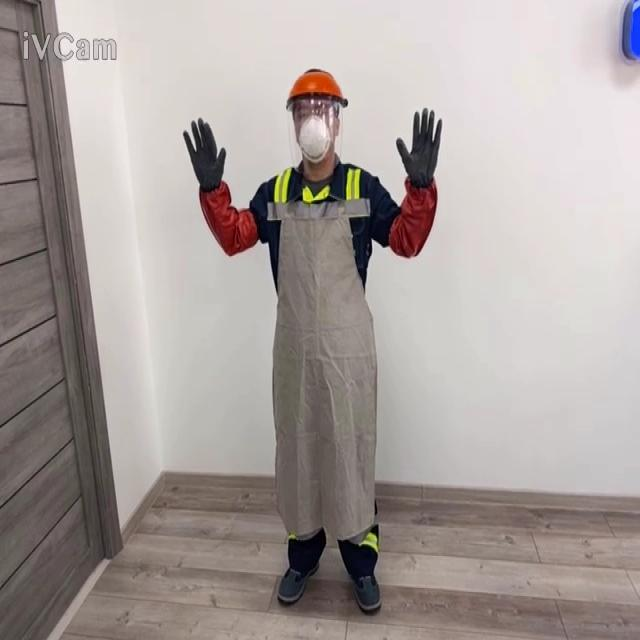Gloves: (182, 116, 226, 192)
Mask: (296, 112, 331, 164)
Protective apron: (266, 184, 378, 543)
Safety Shoes: (276, 560, 319, 603), (352, 572, 381, 611)
Sleeve: (198, 179, 258, 256), (388, 174, 437, 258)
gloves: (395, 107, 442, 188)
